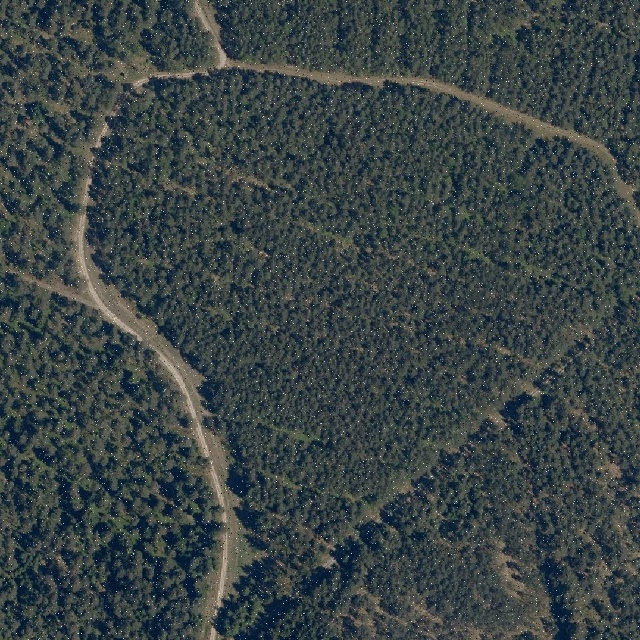vegetation: (94, 71, 640, 640), (254, 283, 640, 640), (211, 0, 640, 207), (0, 267, 219, 640), (0, 0, 214, 288)
